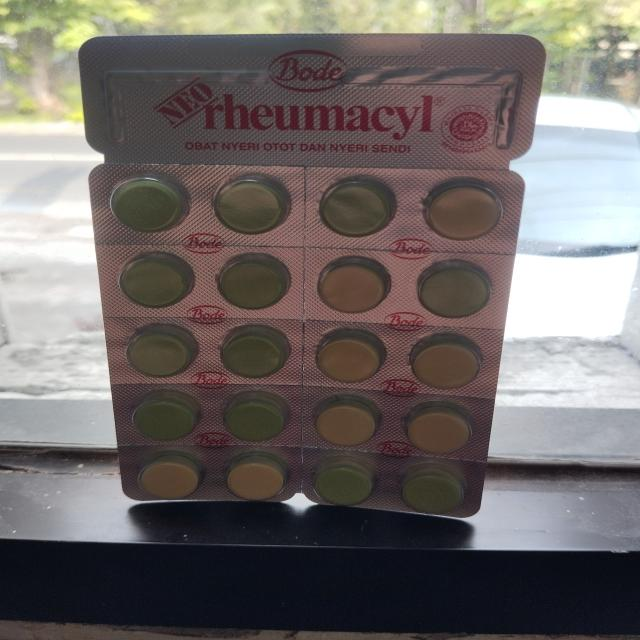B3: (78, 33, 547, 519)
